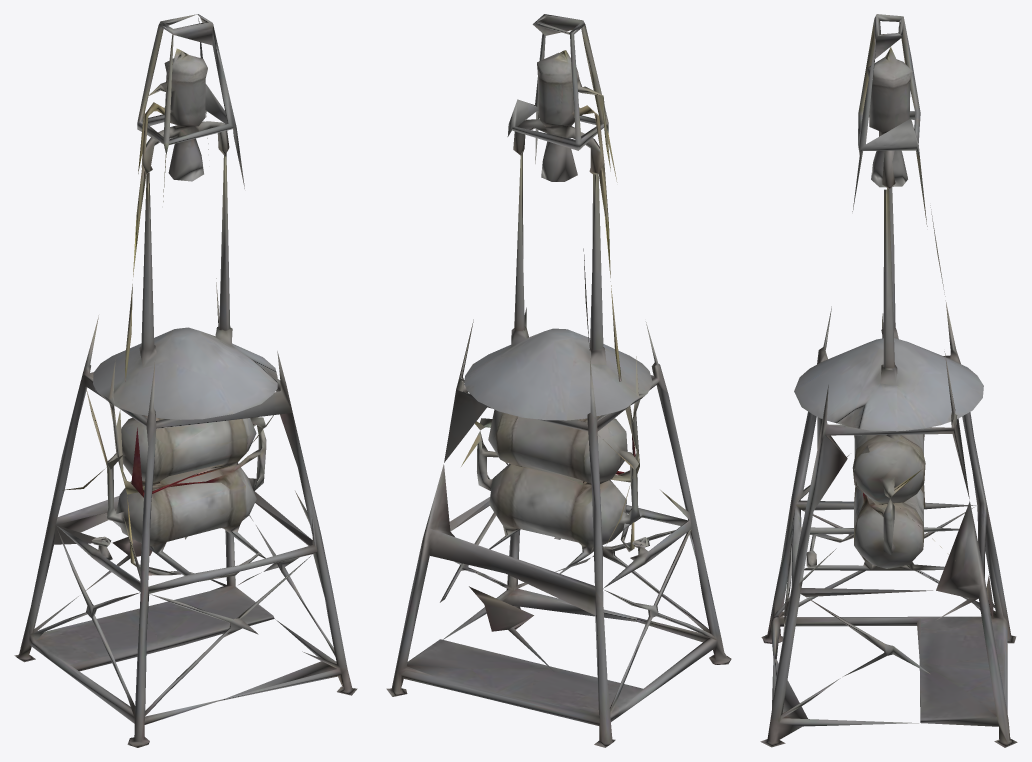
The model's file is goddard_rocket.glb.
3 views of the same model, side by side, from view 1: azimuth 30°, elevation 25°; view 2: azimuth 150°, elevation 25°; view 3: azimuth 270°, elevation 25° (orthographic).
Visible parts, largest first — view 1: tripo_node_79b8b6a6-71cd-4750-a1dc-575501fd9e41; view 2: tripo_node_79b8b6a6-71cd-4750-a1dc-575501fd9e41; view 3: tripo_node_79b8b6a6-71cd-4750-a1dc-575501fd9e41.
Boxes of the visible parts, bbox=[...] form: tripo_node_79b8b6a6-71cd-4750-a1dc-575501fd9e41: bbox=[14, 14, 357, 747]; tripo_node_79b8b6a6-71cd-4750-a1dc-575501fd9e41: bbox=[386, 14, 731, 747]; tripo_node_79b8b6a6-71cd-4750-a1dc-575501fd9e41: bbox=[760, 14, 1017, 747].
Bounding box in the file's own units: 0.3589 × 0.9814 × 0.3427.
1 material, 1 textured.
